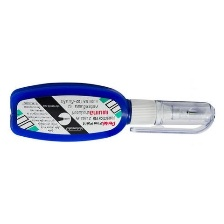correction_fluid: (8, 78, 218, 146)
